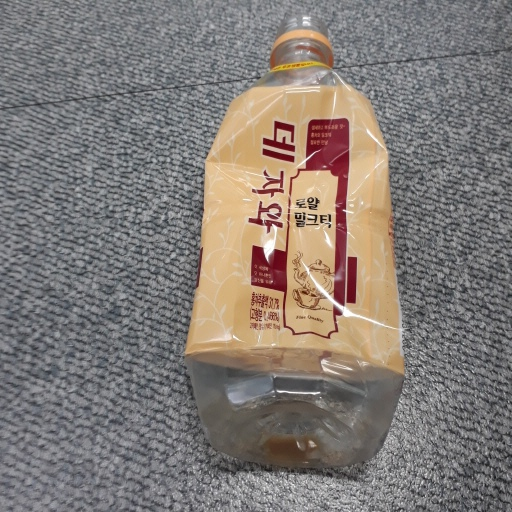Plastic_0: (184, 12, 407, 472)
